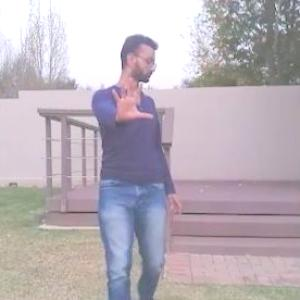follow_hand: (109, 72, 155, 124)
